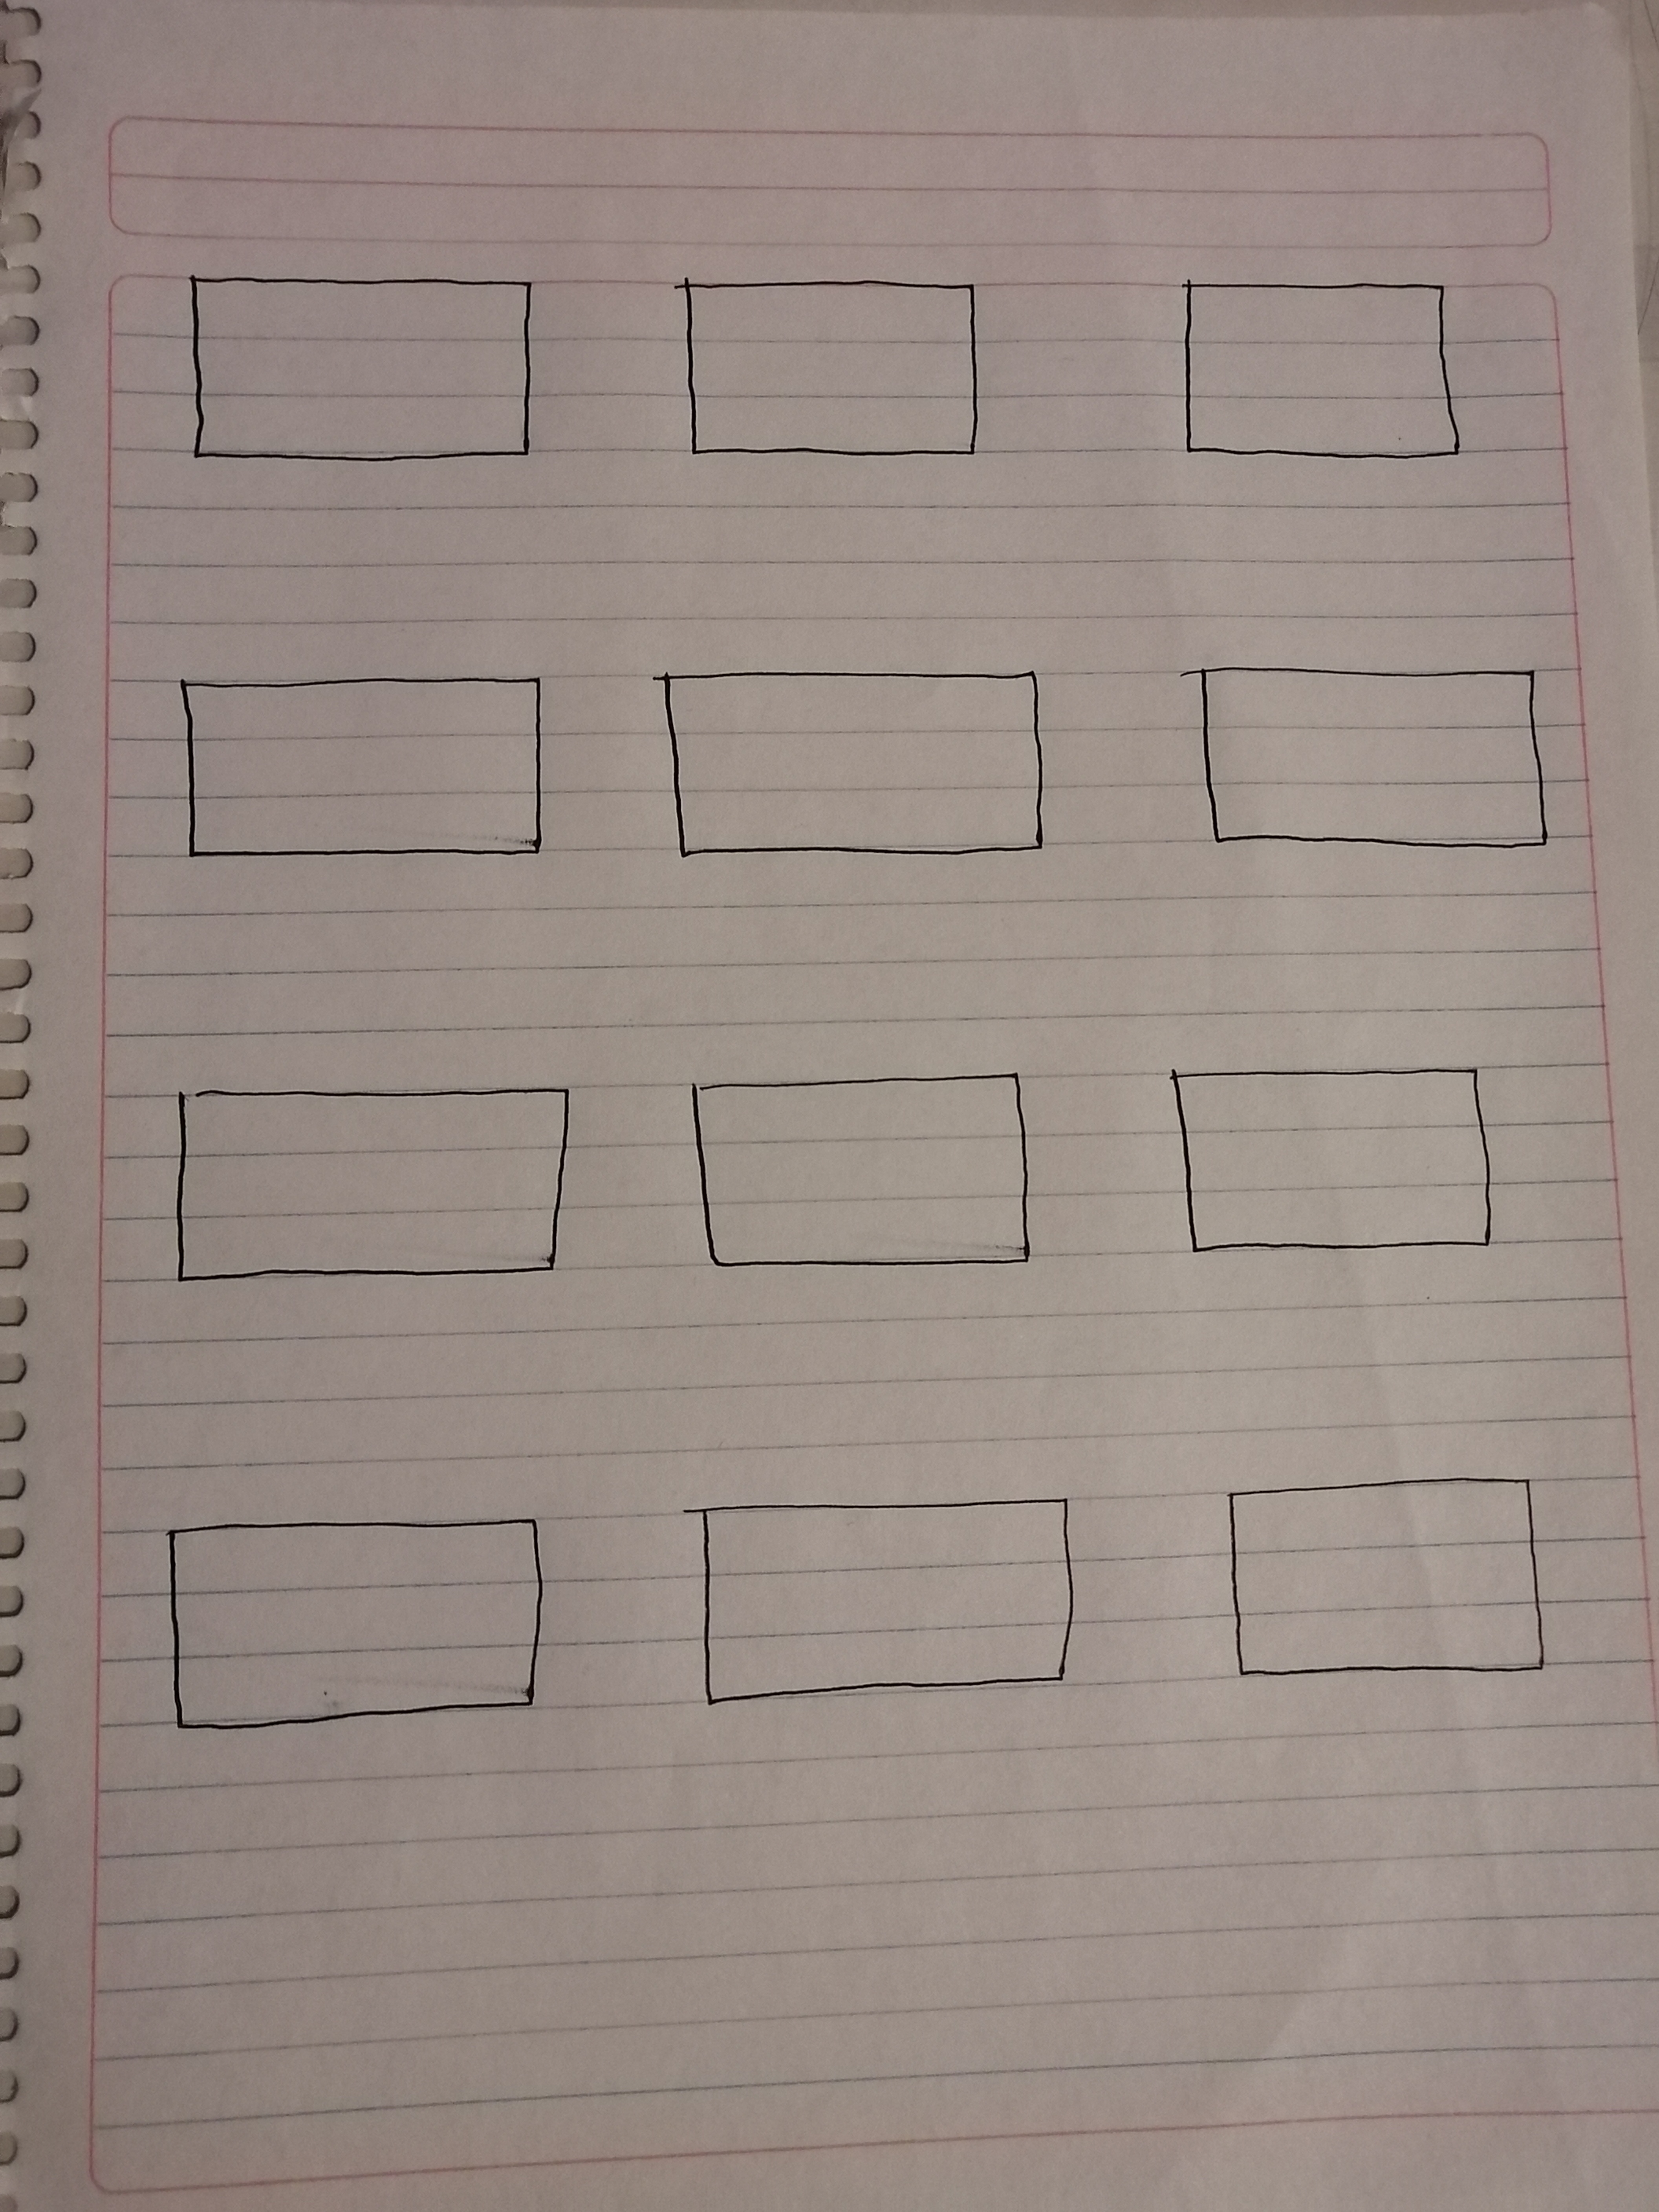process: (664, 1484, 1107, 1738), (150, 1069, 613, 1306), (153, 249, 575, 509), (150, 644, 575, 899), (1164, 644, 1577, 906), (627, 657, 1096, 885), (146, 1503, 582, 1742), (1131, 1049, 1549, 1284), (664, 1062, 1077, 1291), (641, 256, 1032, 484), (1188, 1470, 1567, 1698), (1164, 256, 1502, 502)
